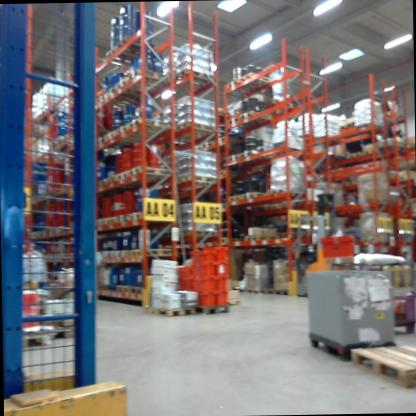forklift: (285, 185, 345, 291)
pallet: (344, 335, 416, 395), (17, 327, 55, 359), (111, 75, 162, 98), (128, 114, 172, 139), (169, 117, 219, 139), (126, 65, 173, 88), (144, 299, 196, 319), (171, 67, 214, 91), (222, 78, 265, 102), (49, 318, 80, 348), (129, 162, 171, 184), (237, 69, 273, 94), (239, 104, 275, 128), (190, 301, 230, 321), (239, 230, 283, 248), (176, 173, 222, 190), (225, 189, 268, 207), (216, 132, 251, 152), (126, 247, 175, 260), (265, 185, 304, 201), (225, 114, 255, 133), (360, 144, 389, 161), (336, 115, 361, 134), (94, 168, 113, 192), (240, 145, 264, 162), (224, 152, 247, 169), (111, 120, 130, 140), (125, 206, 148, 222), (193, 138, 216, 152), (108, 213, 130, 226), (114, 167, 128, 186), (345, 146, 363, 160), (273, 285, 291, 297), (225, 296, 241, 309), (131, 285, 148, 295), (114, 284, 133, 292), (260, 285, 272, 297), (248, 286, 261, 297)
small_load_carrier: (317, 231, 353, 256), (192, 241, 216, 261), (192, 257, 214, 276), (194, 275, 215, 292), (194, 291, 216, 307), (211, 272, 230, 289), (215, 289, 230, 308), (172, 274, 191, 289), (211, 260, 232, 273), (171, 264, 198, 274), (216, 243, 230, 260)
stillage: (324, 246, 416, 335)
